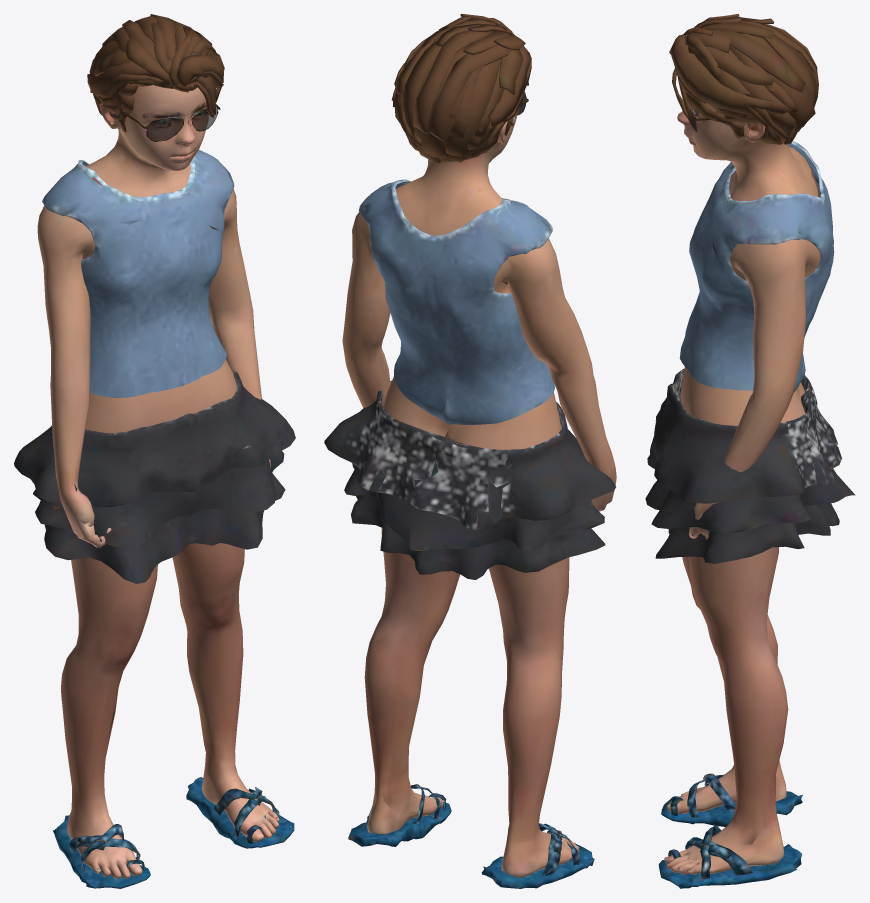
3 renders of one model, left to right at view 1: azimuth 30°, elevation 25°; view 2: azimuth 150°, elevation 25°; view 3: azimuth 270°, elevation 25°, orthographic.
Visible parts, largest first — view 1: p02538; view 2: p02538; view 3: p02538.
Boxes of the visible parts, x1,y1,x2,y2 form: p02538: [14, 14, 295, 888]; p02538: [324, 14, 616, 888]; p02538: [645, 14, 855, 888].
Bounding box in the file's own units: 0.4571 × 1.44 × 0.3307.
Materials: 1 (1 with a texture image).
